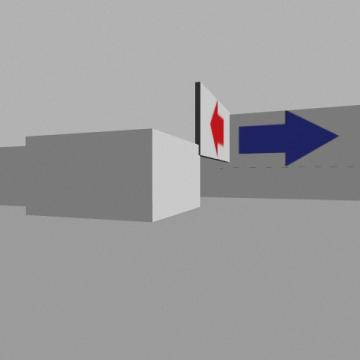blue_right: (238, 111, 338, 166)
red_left: (210, 101, 223, 155)
